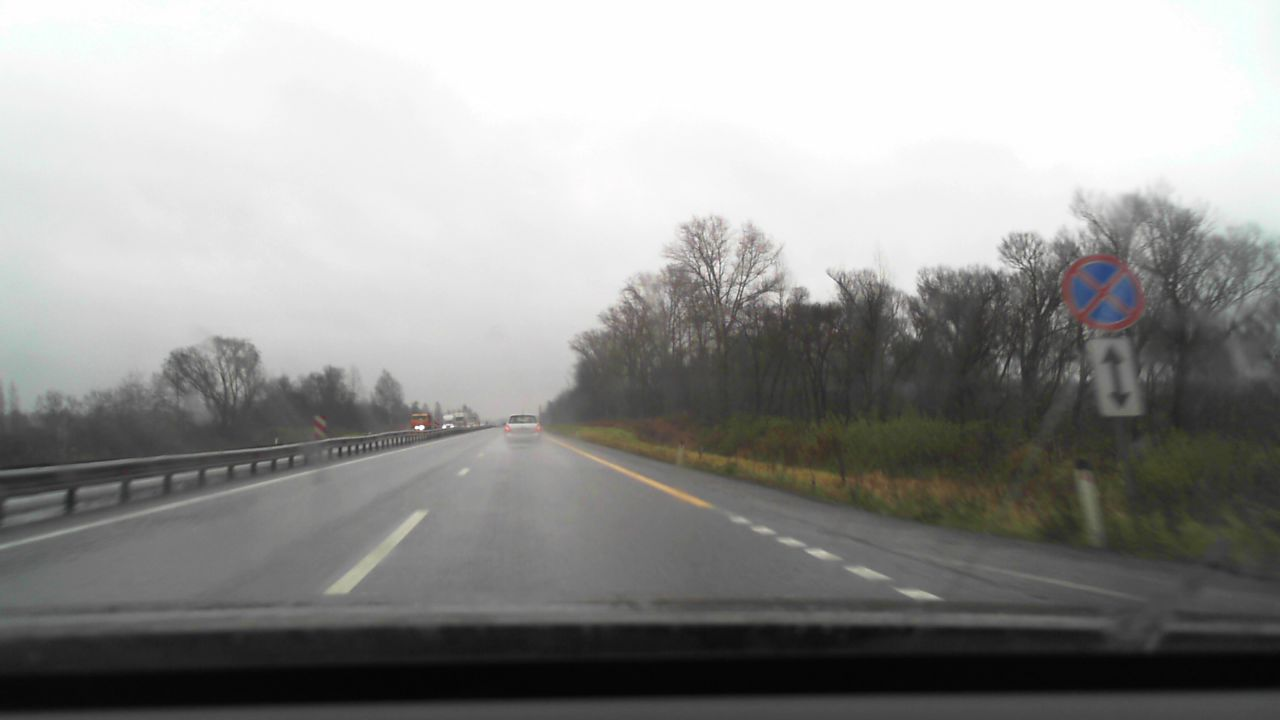No Parking: (1061, 254, 1143, 329)
